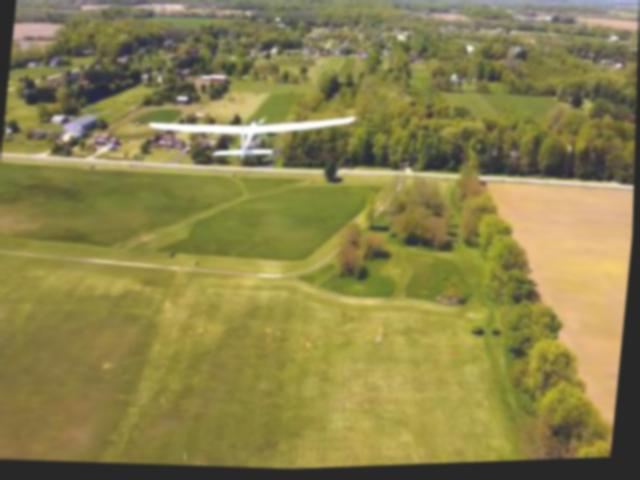uav: (140, 88, 361, 179)
